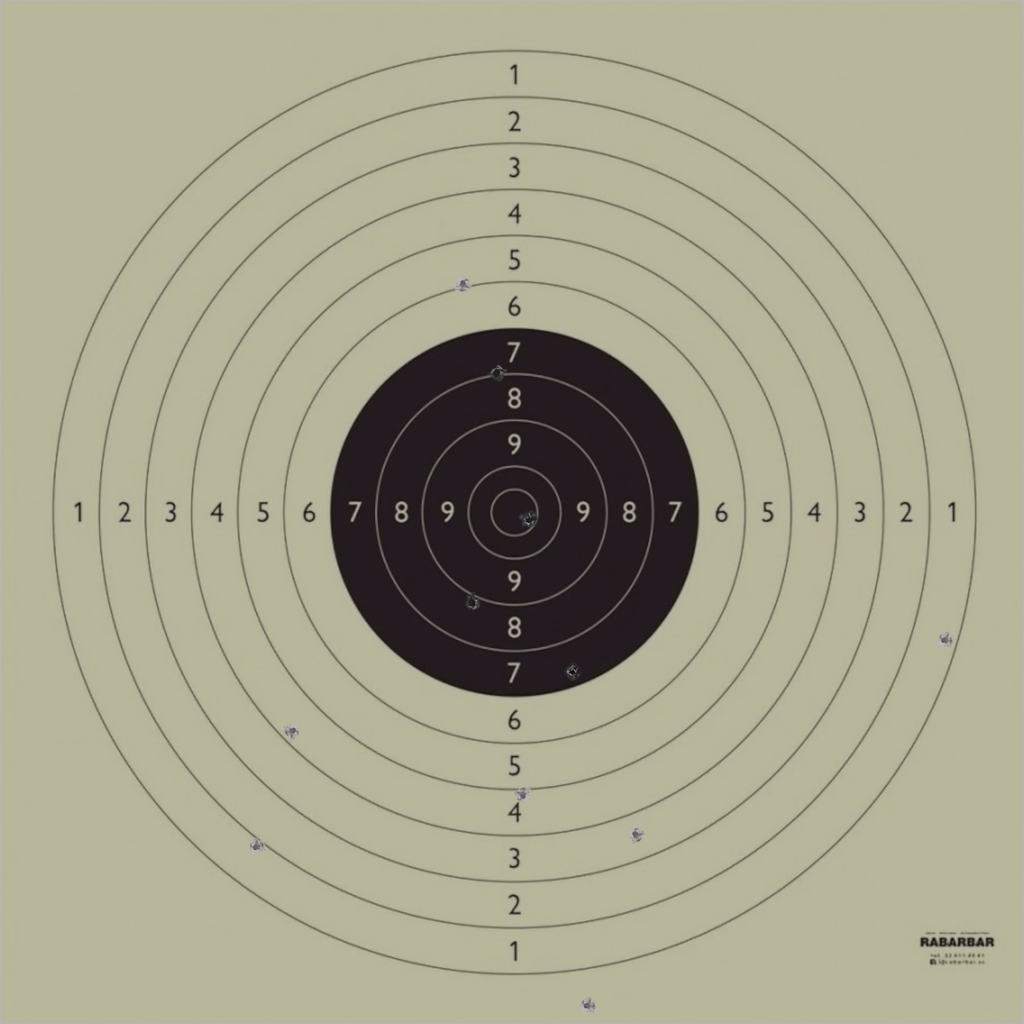0 punktow: (578, 996, 597, 1015)
1 punkt: (936, 631, 954, 649)
10 punktow: (520, 511, 538, 529)
2 punkty: (247, 838, 266, 856)
3 punkty: (627, 825, 645, 844)
4 punkty: (283, 722, 302, 740)
5 punktow: (514, 786, 532, 804)
6 punktow: (454, 275, 472, 293)
7 punktow: (563, 663, 581, 681)
8 punktow: (488, 364, 506, 382)
9 punktow: (463, 593, 482, 612)
